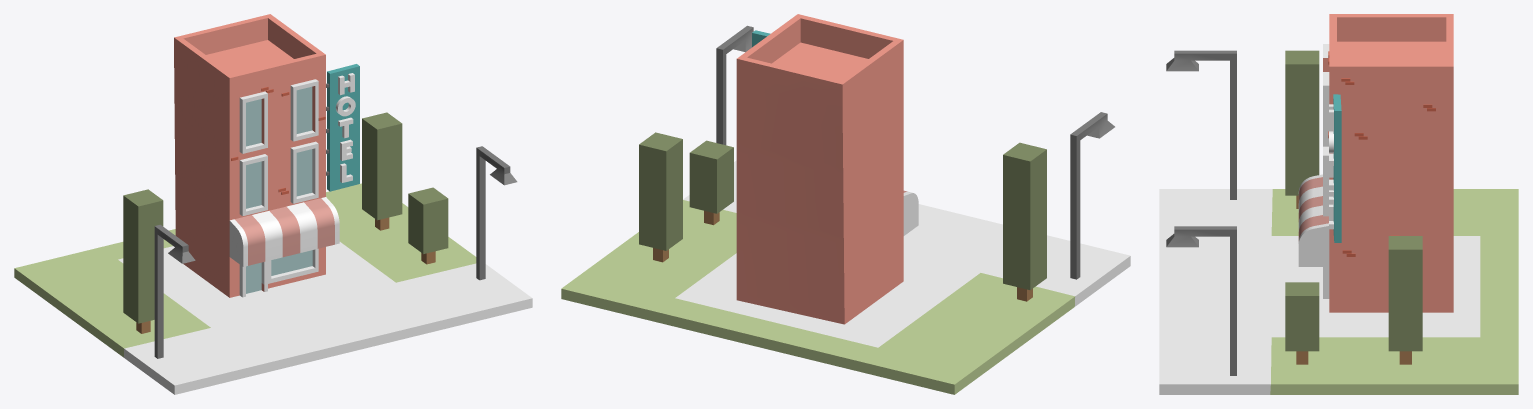
The picture shows the model from 3 angles, left to right: view 1: azimuth 30°, elevation 25°; view 2: azimuth 150°, elevation 25°; view 3: azimuth 270°, elevation 25°; orthographic projection. The views are drawn at different scales.
Parts seen in each view (by area): view 1: typeMesh2; view 2: typeMesh2; view 3: typeMesh2.
Boxes of the visible parts, x1,y1,x2,y2 form: typeMesh2: [14, 14, 532, 394]; typeMesh2: [561, 14, 1130, 394]; typeMesh2: [1159, 14, 1518, 394].
Size of the model in its own units: 2.59 by 1.59 by 2.01.
